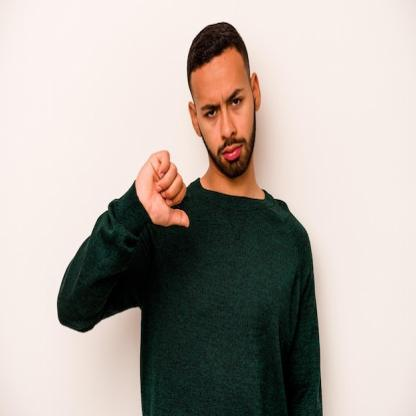thumb_down: (133, 146, 191, 233)
